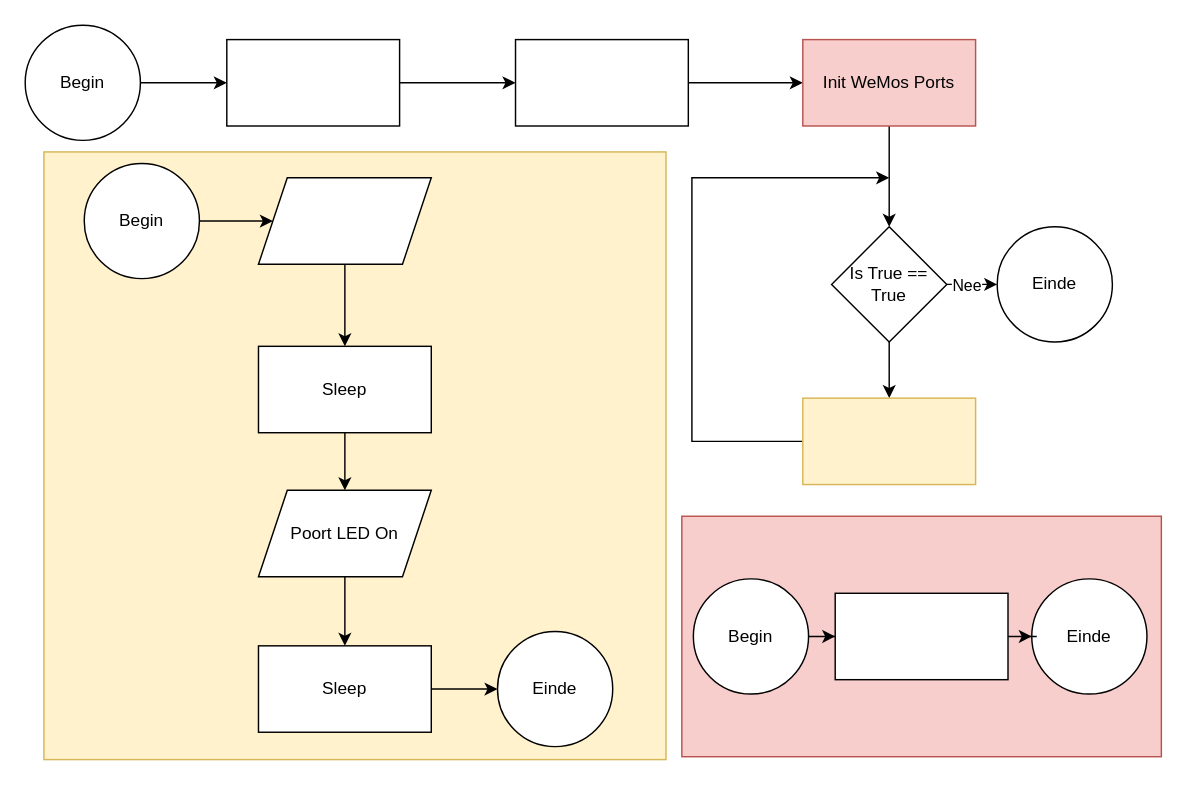
Image size: 1187x785. Some labels were removed from this diagram. The shapes that lost their labels are listed below. From the top down, each one's centre as x and y in pixels, then its label:
At point (312, 82): "Use modules".
At point (601, 82): "Init Constants LED = 16 SLEEP = 1".
At point (344, 220): "Poort LED Off".
At point (888, 441): "Programma".
At point (921, 636): "Poort LED Output".
